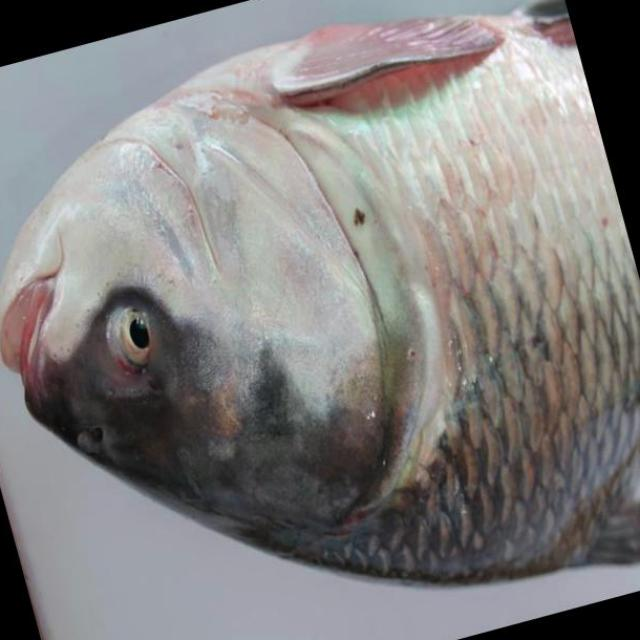Catla: (0, 12, 640, 586)
